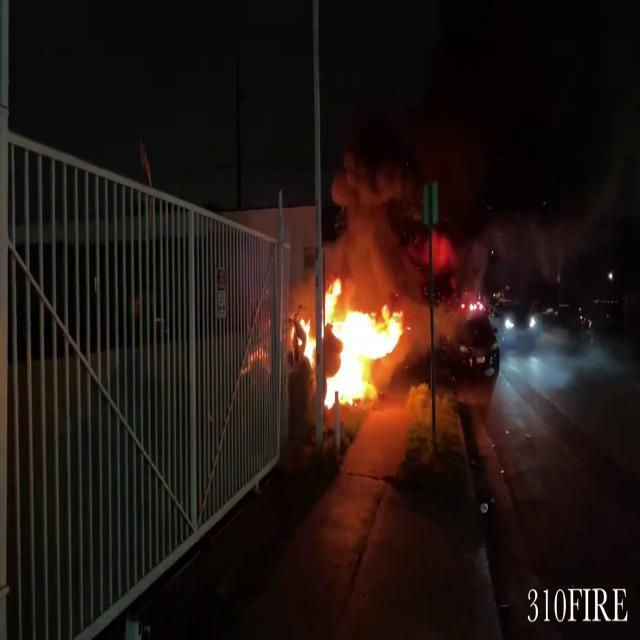Fire: (290, 276, 410, 409)
Smoke: (322, 108, 427, 292)
